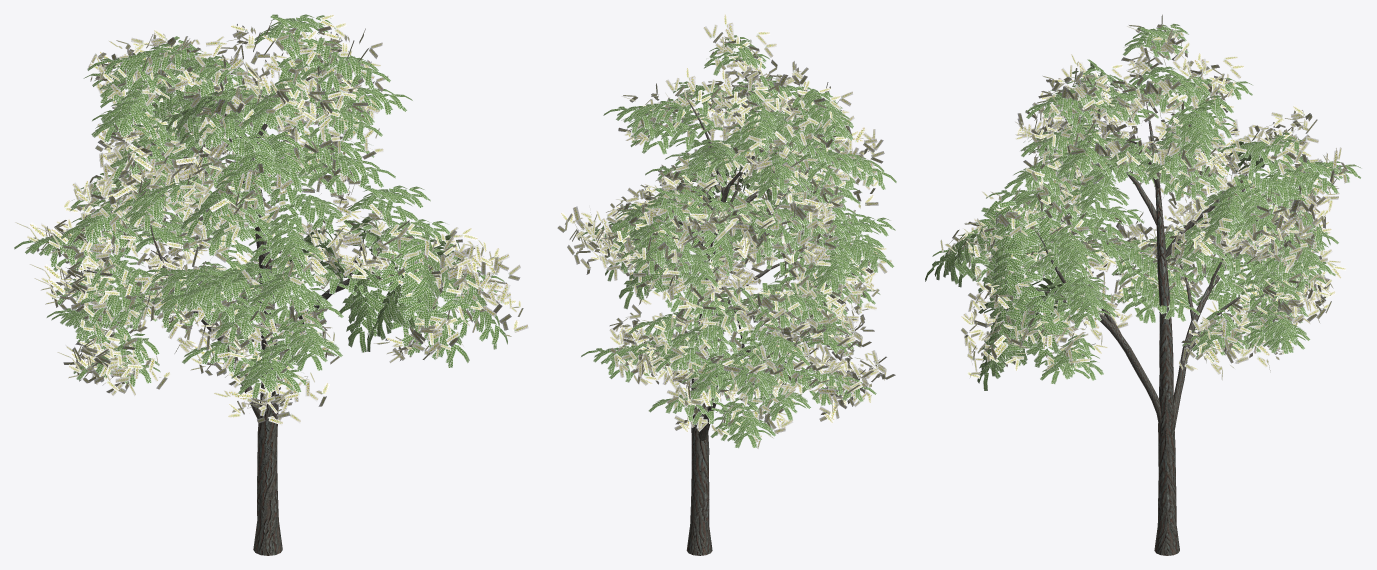
Rendered from tree_34.glb.
3 views of the same model, side by side, from view 1: azimuth 30°, elevation 25°; view 2: azimuth 150°, elevation 25°; view 3: azimuth 270°, elevation 25° (orthographic). The views are drawn at different scales.
Visible parts, largest first — view 1: MainBuilding; view 2: MainBuilding; view 3: MainBuilding.
Boxes of the visible parts, left/top/right/bottom form: MainBuilding: left=14, top=14, right=528, bottom=555; MainBuilding: left=557, top=14, right=896, bottom=555; MainBuilding: left=925, top=14, right=1361, bottom=555.
Bounding box in the file's own units: 0.7724 × 1.06 × 0.8779.
1 material, 1 textured.
